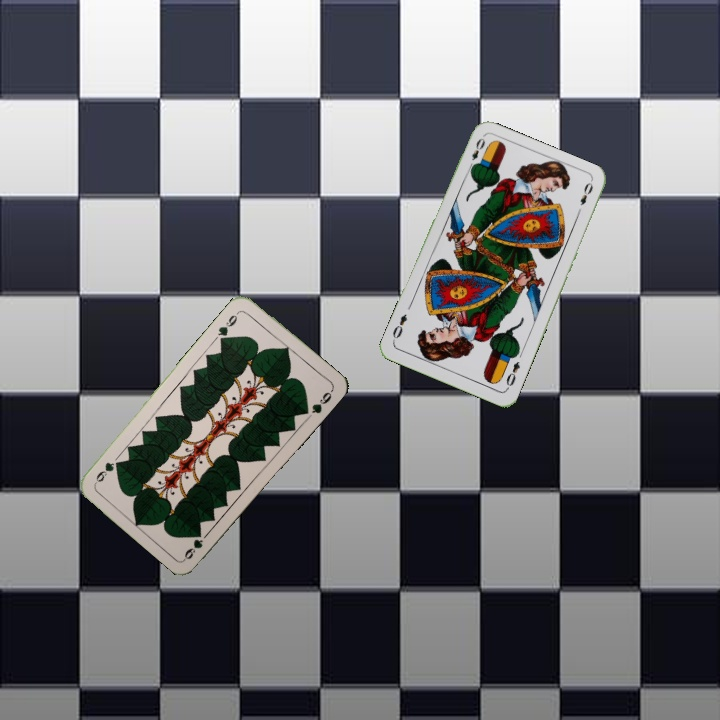EO: (464, 134, 488, 172), (502, 357, 522, 392)
G9: (214, 307, 242, 344), (180, 535, 205, 562)
